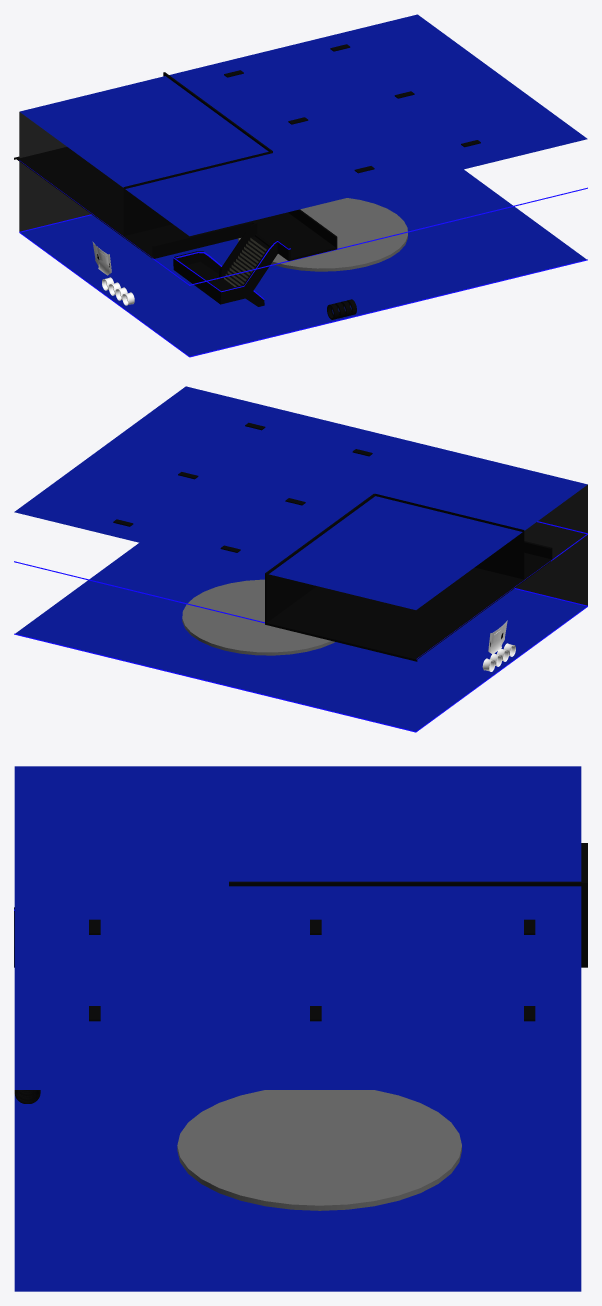
The model's file is Garazh.fbx.
The picture shows the model from 3 angles, top to bottom: view 1: azimuth 30°, elevation 25°; view 2: azimuth 150°, elevation 25°; view 3: azimuth 270°, elevation 25°; orthographic projection. The views are drawn at different scales.
Parts seen in each view (by area): view 1: Garazh, Garazh_Verh, Garazh_Platform, Garazh_Stupeni, Garazh_Light; view 2: Garazh, Garazh_Verh, Garazh_Platform, Garazh_Light; view 3: Garazh, Garazh_Platform, Garazh_Verh, Garazh_Light.
Boxes of the visible parts, <box> form: Garazh: <box>19,14,587,357</box>; Garazh_Verh: <box>14,72,337,306</box>; Garazh_Platform: <box>238,198,407,271</box>; Garazh_Stupeni: <box>186,236,268,290</box>; Garazh_Light: <box>224,44,480,173</box>; Garazh: <box>14,386,587,732</box>; Garazh_Verh: <box>265,493,552,661</box>; Garazh_Platform: <box>182,579,334,655</box>; Garazh_Light: <box>113,422,372,552</box>; Garazh: <box>14,766,581,1291</box>; Garazh_Platform: <box>177,1090,461,1210</box>; Garazh_Verh: <box>14,843,587,967</box>; Garazh_Light: <box>89,919,535,1021</box>.
Size of the model in its own units: 2017 by 608 by 1500.
